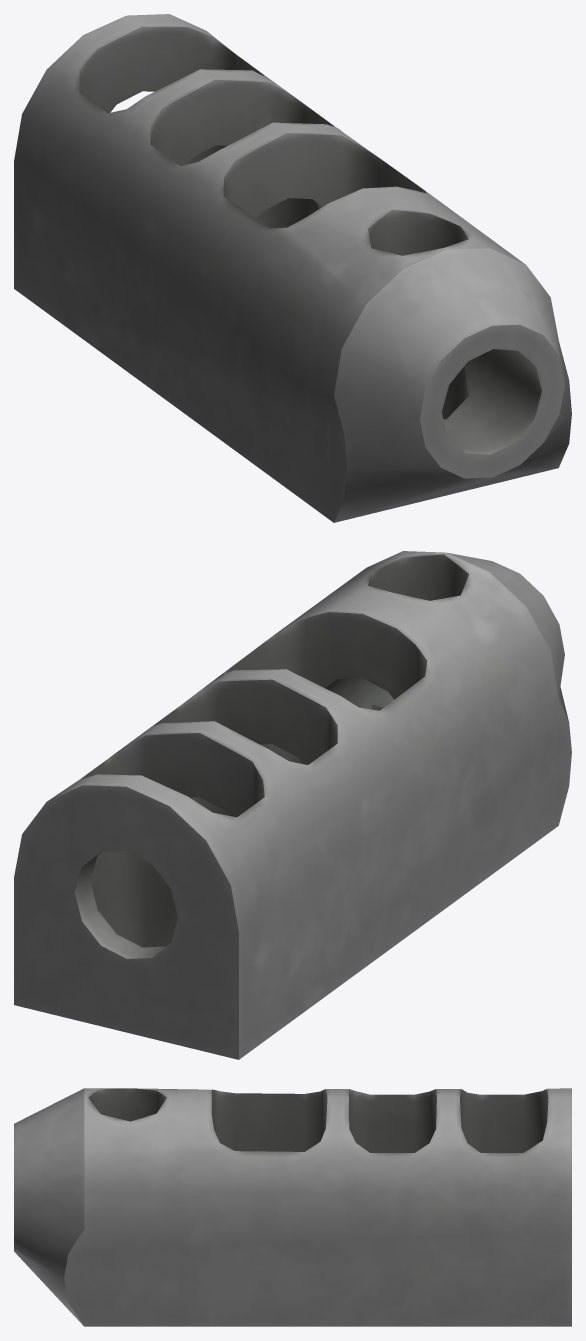
File: IG_Acc_Muzzle_AR_REC_1.fbx
The picture shows the model from 3 angles, top to bottom: view 1: azimuth 30°, elevation 25°; view 2: azimuth 150°, elevation 25°; view 3: azimuth 270°, elevation 25°; orthographic projection. The views are drawn at different scales.
Visible parts, largest first — view 1: Muzzle_AR_REC_1; view 2: Muzzle_AR_REC_1; view 3: Muzzle_AR_REC_1.
Boxes of the visible parts, left/top/right/bottom form: Muzzle_AR_REC_1: left=14, top=14, right=571, bottom=522; Muzzle_AR_REC_1: left=14, top=551, right=571, bottom=1059; Muzzle_AR_REC_1: left=14, top=1088, right=571, bottom=1326.
Size of the model in its own units: 0.0707 by 0.074 by 0.1992.
